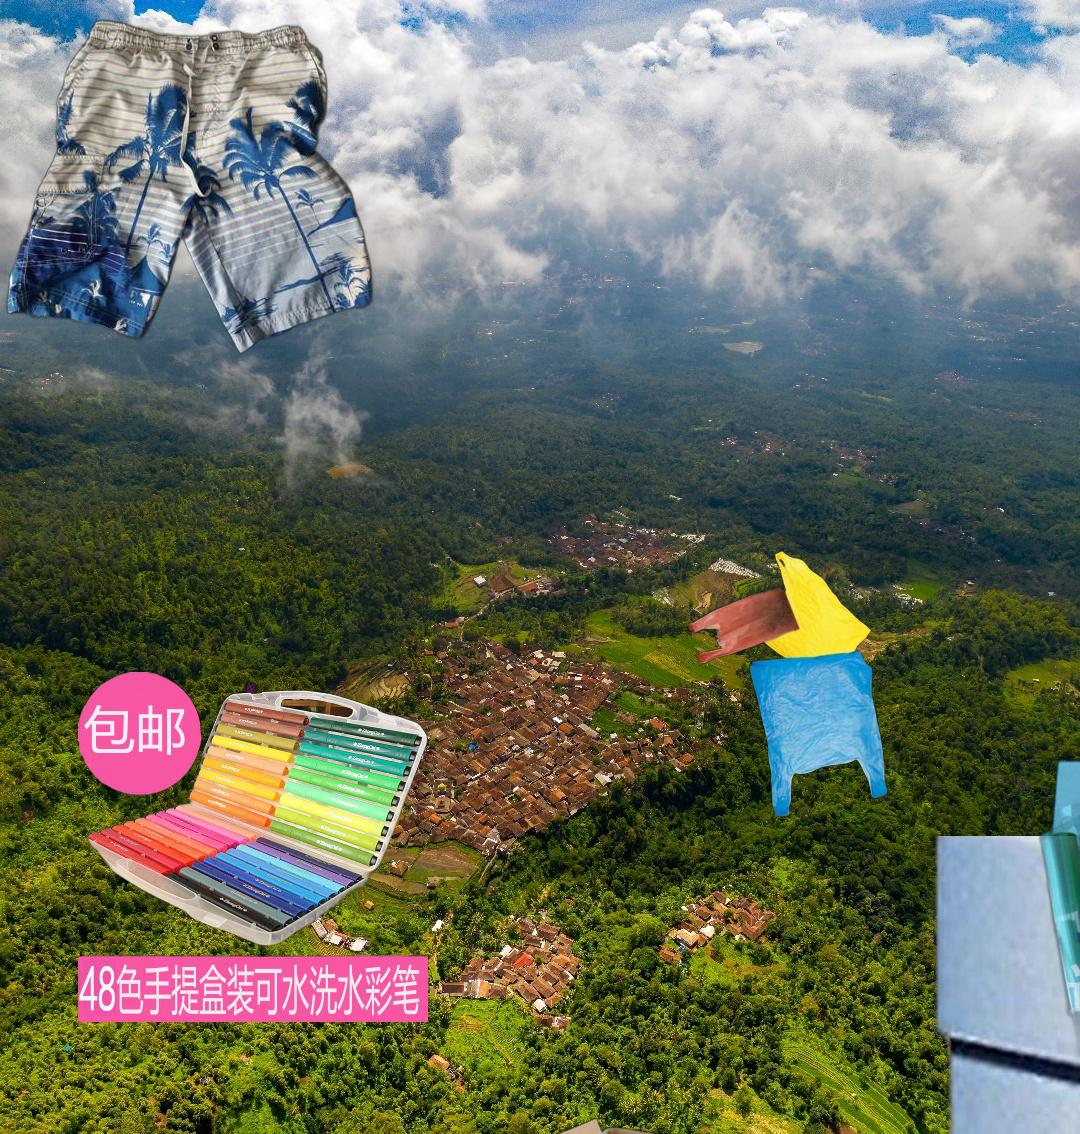clothes: (3, 15, 377, 358)
paper-bag: (485, 1117, 730, 1134)
penholder: (78, 672, 428, 1022), (1035, 710, 1080, 1134)
plastic-bag: (686, 548, 891, 820)
trashbox-cardboard: (924, 836, 1080, 1134)
